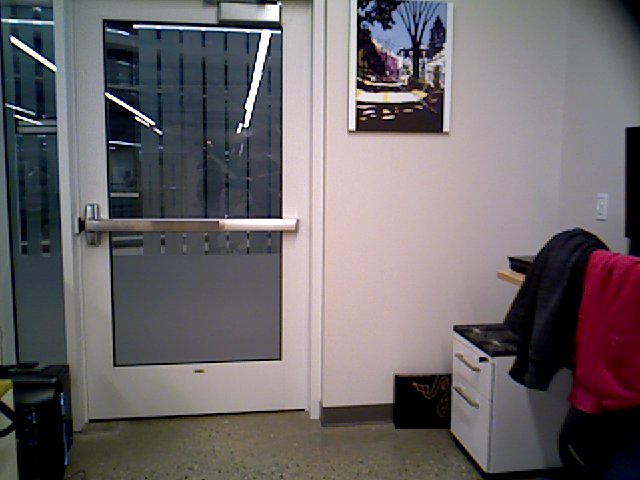painting3: (347, 1, 451, 130)
